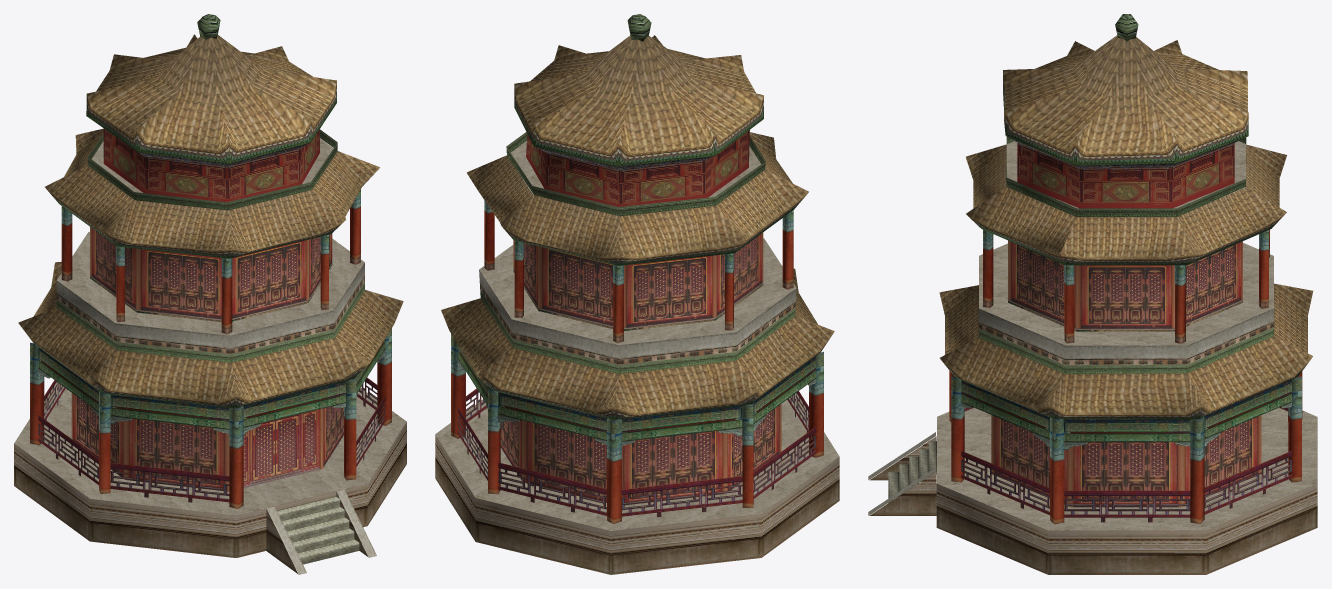
The model's file is cj_pal_south_buil02.glb.
3 renders of one model, left to right at view 1: azimuth 30°, elevation 25°; view 2: azimuth 150°, elevation 25°; view 3: azimuth 270°, elevation 25°, orthographic. The views are drawn at different scales.
Visible parts, largest first — view 1: CJ_pal_south_buil02_roof01, CJ_pal_south_buil02_wall01, CJ_pal_south_buil02_floor01, CJ_pal_south_buil02_roof03_al, CJ_pal_south_buil02_floor02, CJ_pal_south_buil02_roof02_2side; view 2: CJ_pal_south_buil02_roof01, CJ_pal_south_buil02_wall01, CJ_pal_south_buil02_floor01, CJ_pal_south_buil02_roof03_al, CJ_pal_south_buil02_roof02_2side; view 3: CJ_pal_south_buil02_roof01, CJ_pal_south_buil02_wall01, CJ_pal_south_buil02_floor01, CJ_pal_south_buil02_roof03_al, CJ_pal_south_buil02_roof02_2side, CJ_pal_south_buil02_floor02.
Part boxes in pixels (x1=…): CJ_pal_south_buil02_roof01: x1=18, y1=34, x2=403, y2=574; CJ_pal_south_buil02_wall01: x1=14, y1=14, x2=406, y2=574; CJ_pal_south_buil02_floor01: x1=14, y1=138, x2=406, y2=515; CJ_pal_south_buil02_roof03_al: x1=38, y1=339, x2=385, y2=502; CJ_pal_south_buil02_floor02: x1=277, y1=496, x2=361, y2=564; CJ_pal_south_buil02_roof02_2side: x1=87, y1=129, x2=337, y2=210; CJ_pal_south_buil02_roof01: x1=441, y1=35, x2=834, y2=505; CJ_pal_south_buil02_wall01: x1=435, y1=14, x2=839, y2=574; CJ_pal_south_buil02_floor01: x1=435, y1=141, x2=839, y2=530; CJ_pal_south_buil02_roof03_al: x1=458, y1=345, x2=815, y2=517; CJ_pal_south_buil02_roof02_2side: x1=506, y1=132, x2=765, y2=216; CJ_pal_south_buil02_roof01: x1=868, y1=35, x2=1313, y2=515; CJ_pal_south_buil02_wall01: x1=869, y1=14, x2=1317, y2=574; CJ_pal_south_buil02_floor01: x1=937, y1=141, x2=1317, y2=530; CJ_pal_south_buil02_roof03_al: x1=961, y1=380, x2=1291, y2=522; CJ_pal_south_buil02_roof02_2side: x1=1006, y1=137, x2=1246, y2=216; CJ_pal_south_buil02_floor02: x1=888, y1=441, x2=936, y2=502.
Bounding box in the file's own units: 13.65 × 18.89 × 16.11.
6 materials, 6 textured.
